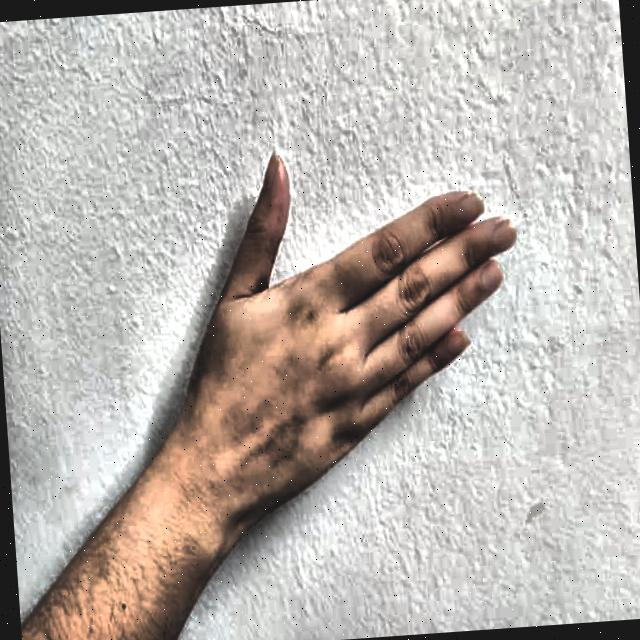Aa: (150, 84, 552, 552)
